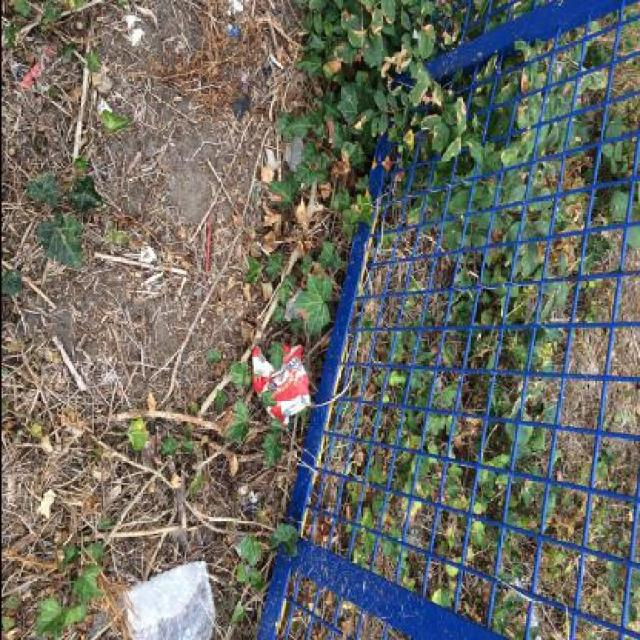plastic: (120, 559, 215, 639), (251, 344, 309, 425)
